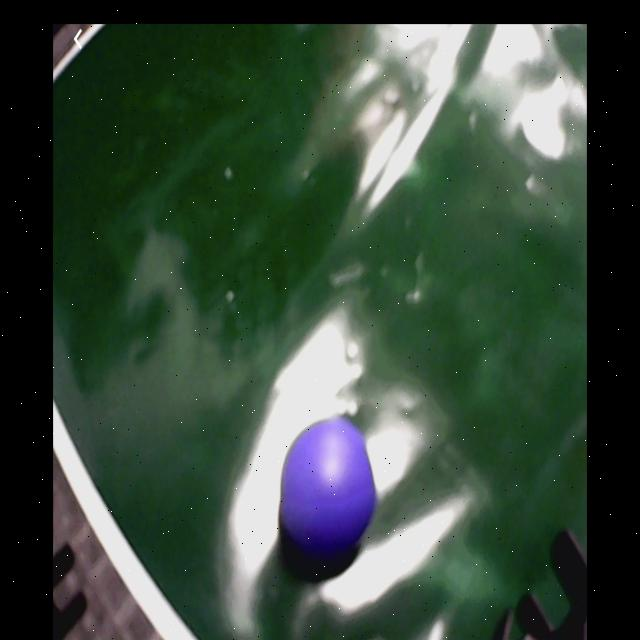ball: (283, 413, 377, 553)
